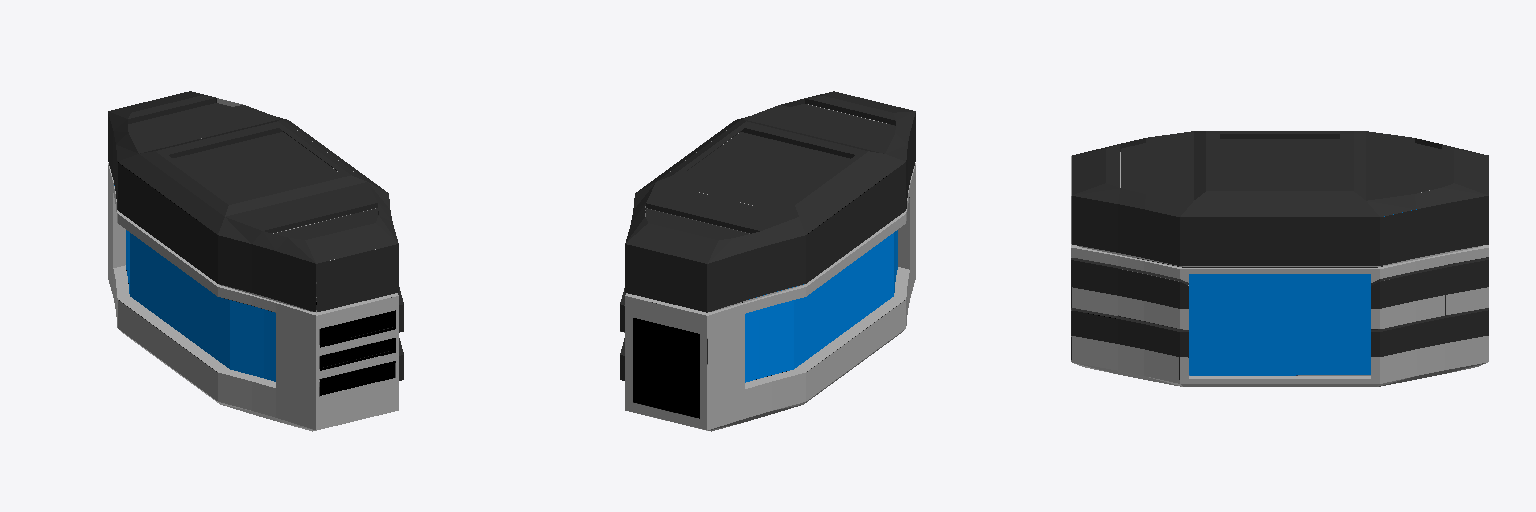
3 views of the same model, side by side, from view 1: azimuth 30°, elevation 25°; view 2: azimuth 150°, elevation 25°; view 3: azimuth 270°, elevation 25° (orthographic).
Visible parts, largest first — view 1: Skrzynia.NR2_Cube.038; view 2: Skrzynia.NR2_Cube.038; view 3: Skrzynia.NR2_Cube.038.
Part boxes in pixels (left/top/right/bottom): Skrzynia.NR2_Cube.038: left=108, top=91, right=403, bottom=431; Skrzynia.NR2_Cube.038: left=620, top=91, right=915, bottom=431; Skrzynia.NR2_Cube.038: left=1071, top=131, right=1488, bottom=386.
Size of the model in its own units: 2.28 by 2.31 by 4.68.
1 materials, 1 textured.